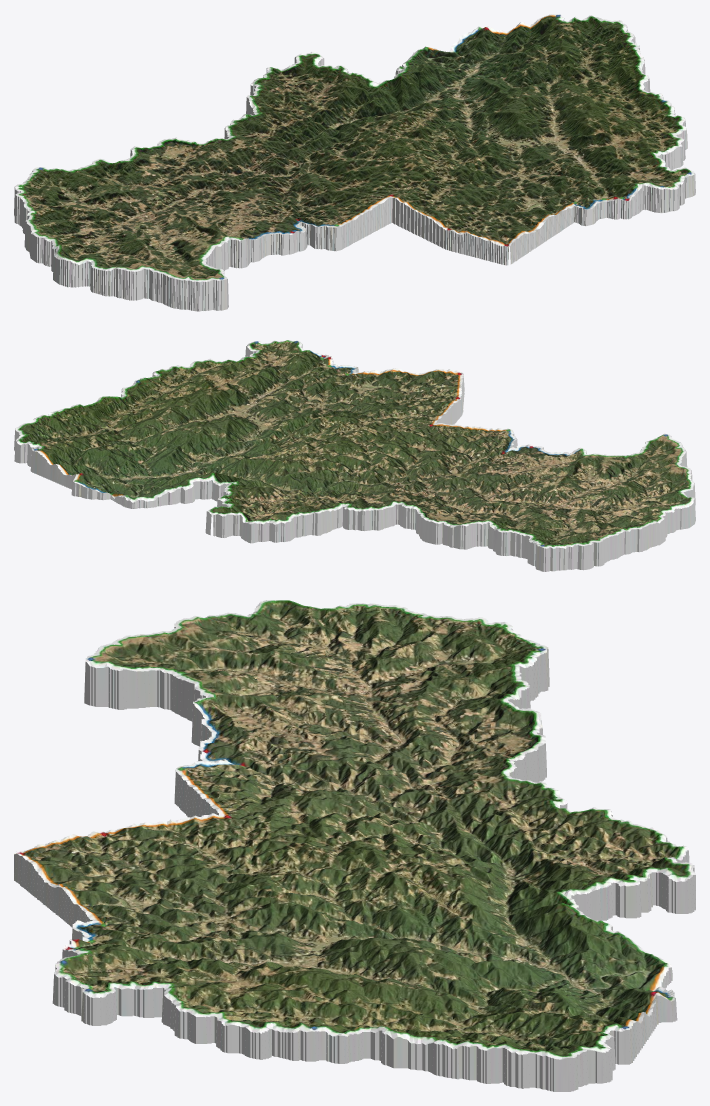
3 views of the same model, one above another, from view 1: azimuth 30°, elevation 25°; view 2: azimuth 150°, elevation 25°; view 3: azimuth 270°, elevation 25° (orthographic). The views are drawn at different scales.
Size of the model in its own units: 0.9999 by 0.0429 by 0.6297.
1 material, 1 textured.
